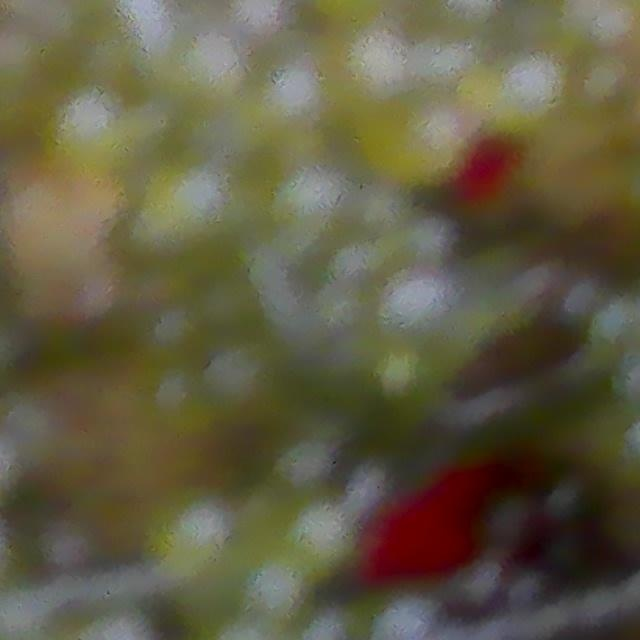SeaGrape: (131, 158, 236, 254), (198, 337, 284, 426)
